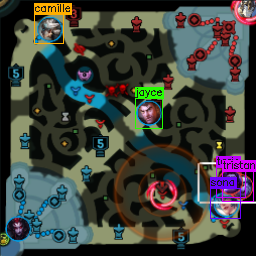camille: (36, 16, 62, 40)
galio: (233, 1, 255, 19)
jayce: (136, 100, 161, 124)
sona: (214, 194, 238, 215)
taric: (217, 169, 242, 193)
tristana: (229, 175, 252, 198)
